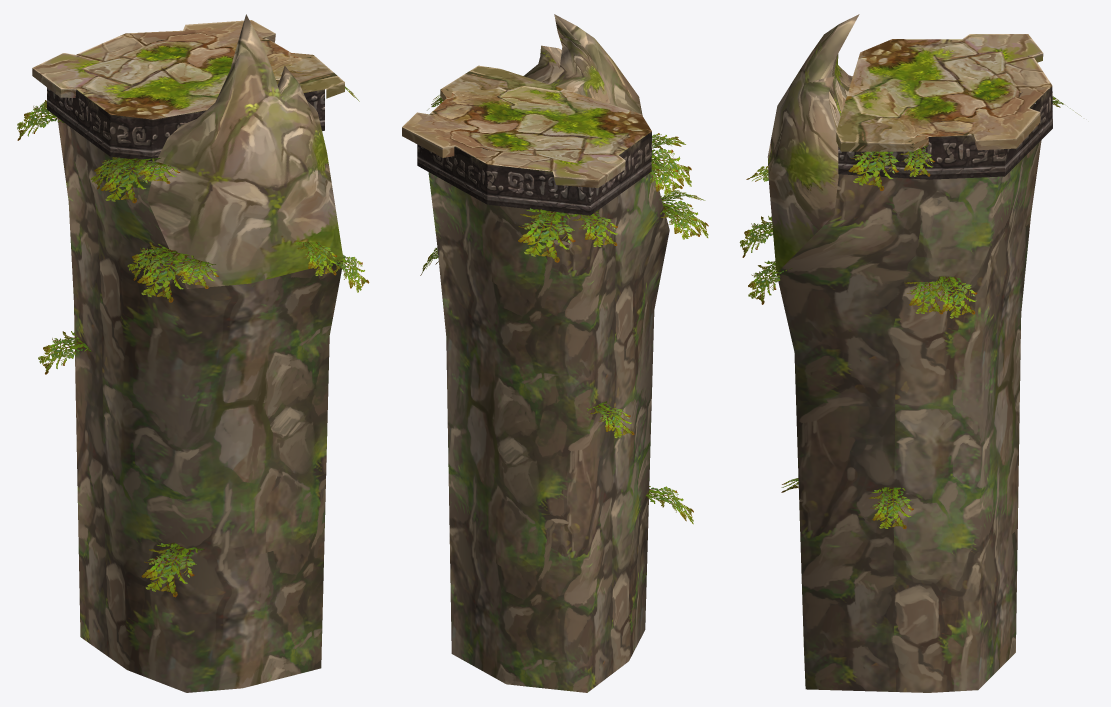
Rendered from gjs_yanti02.FBX.
3 renders of one model, left to right at view 1: azimuth 30°, elevation 25°; view 2: azimuth 150°, elevation 25°; view 3: azimuth 270°, elevation 25°, orthographic. The views are drawn at different scales.
Parts seen in each view (by area): view 1: 对象04, 对象10, 对象03, Plane98, Plane95, Plane39, Plane97, Plane96, Plane99, Plane94, Plane104, Plane100 (+1 smaller); view 2: 对象04, 对象03, 对象10, Plane105, Plane104, Plane97, Plane98, Plane39, Plane37, Plane96, Plane95; view 3: 对象04, 对象03, 对象10, Plane35, Plane101, Plane103, Plane102, Plane100, Plane99, Plane36.
Boxes of the visible parts, <box> form: 对象04: <box>57,90,342,692</box>; 对象10: <box>147,14,343,288</box>; 对象03: <box>32,20,344,161</box>; Plane98: <box>141,542,204,597</box>; Plane95: <box>137,249,193,302</box>; Plane39: <box>100,158,160,203</box>; Plane97: <box>38,331,91,374</box>; Plane96: <box>127,241,177,280</box>; Plane99: <box>295,242,336,275</box>; Plane94: <box>177,258,218,288</box>; Plane104: <box>17,100,64,140</box>; Plane100: <box>329,254,369,292</box>; 对象04: <box>428,146,669,692</box>; 对象03: <box>402,65,651,215</box>; 对象10: <box>522,14,667,220</box>; Plane105: <box>518,208,575,262</box>; Plane104: <box>571,209,617,246</box>; Plane97: <box>586,401,634,438</box>; Plane98: <box>645,486,693,524</box>; Plane39: <box>649,149,691,186</box>; Plane37: <box>649,157,682,195</box>; Plane96: <box>660,205,699,239</box>; Plane95: <box>662,200,708,237</box>; 对象04: <box>776,103,1041,692</box>; 对象03: <box>836,34,1052,179</box>; 对象10: <box>767,14,859,271</box>; Plane35: <box>848,151,899,190</box>; Plane101: <box>869,487,913,528</box>; Plane103: <box>931,276,977,318</box>; Plane102: <box>905,281,950,314</box>; Plane100: <box>748,260,792,304</box>; Plane99: <box>739,216,773,257</box>; Plane36: <box>899,145,934,176</box>.
Size of the model in its own units: 1108 by 2490 by 1242.
